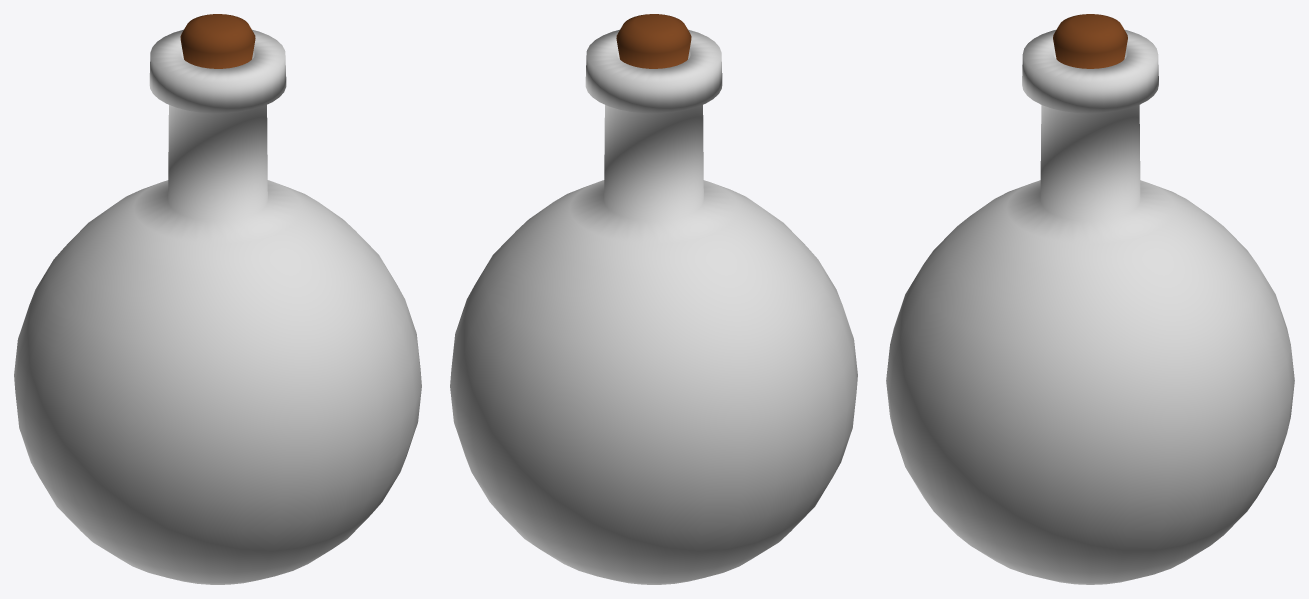
The model's file is flask.fbx.
3 renders of one model, left to right at view 1: azimuth 30°, elevation 25°; view 2: azimuth 150°, elevation 25°; view 3: azimuth 270°, elevation 25°, orthographic.
Parts seen in each view (by area): view 1: flask; view 2: flask; view 3: flask.
Part boxes in pixels (bbox=[...]): flask: bbox=[14, 14, 421, 584]; flask: bbox=[450, 14, 857, 584]; flask: bbox=[886, 14, 1294, 584].
Size of the model in its own units: 110 by 161 by 110.
